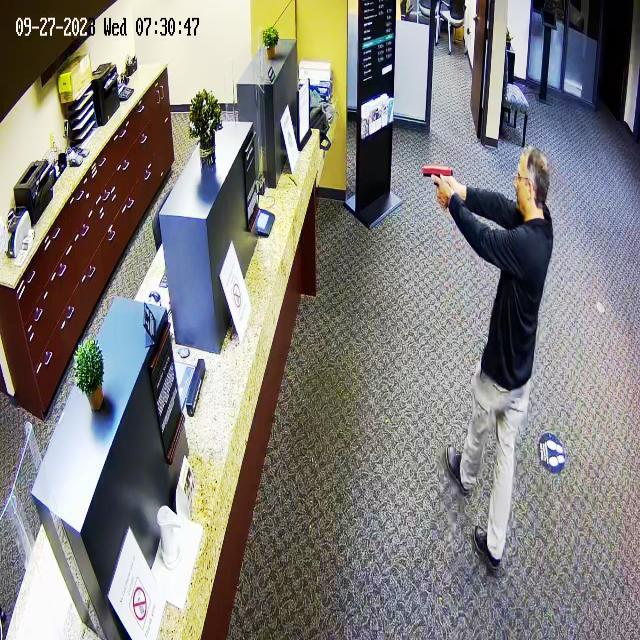Gun: (416, 154, 463, 212)
